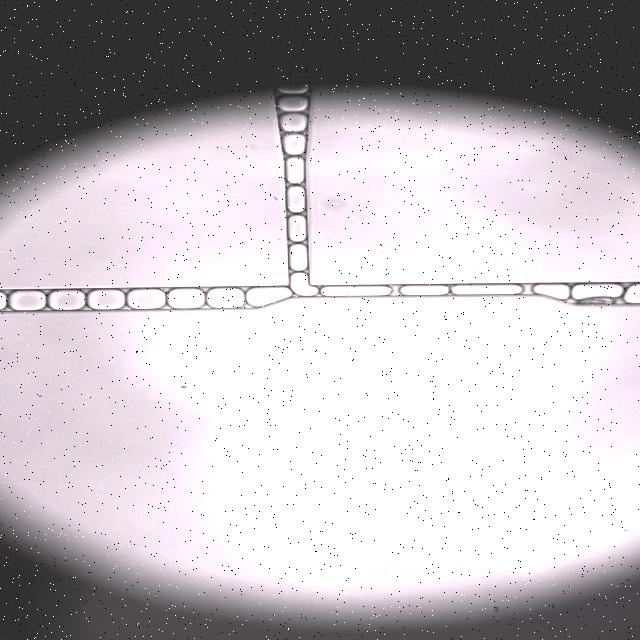L: (290, 273, 318, 296), (533, 284, 569, 300), (279, 113, 306, 132), (289, 244, 308, 271), (278, 95, 308, 112), (282, 134, 306, 155), (287, 186, 305, 213), (288, 215, 306, 242), (400, 285, 448, 295), (286, 157, 304, 183), (278, 84, 309, 94), (624, 284, 640, 303)
S: (246, 287, 291, 307), (572, 284, 621, 301), (127, 289, 165, 309), (452, 284, 521, 295), (48, 290, 85, 310), (167, 289, 205, 308), (9, 291, 46, 310), (87, 290, 124, 309), (207, 289, 244, 308), (322, 286, 391, 295), (0, 292, 6, 310)
